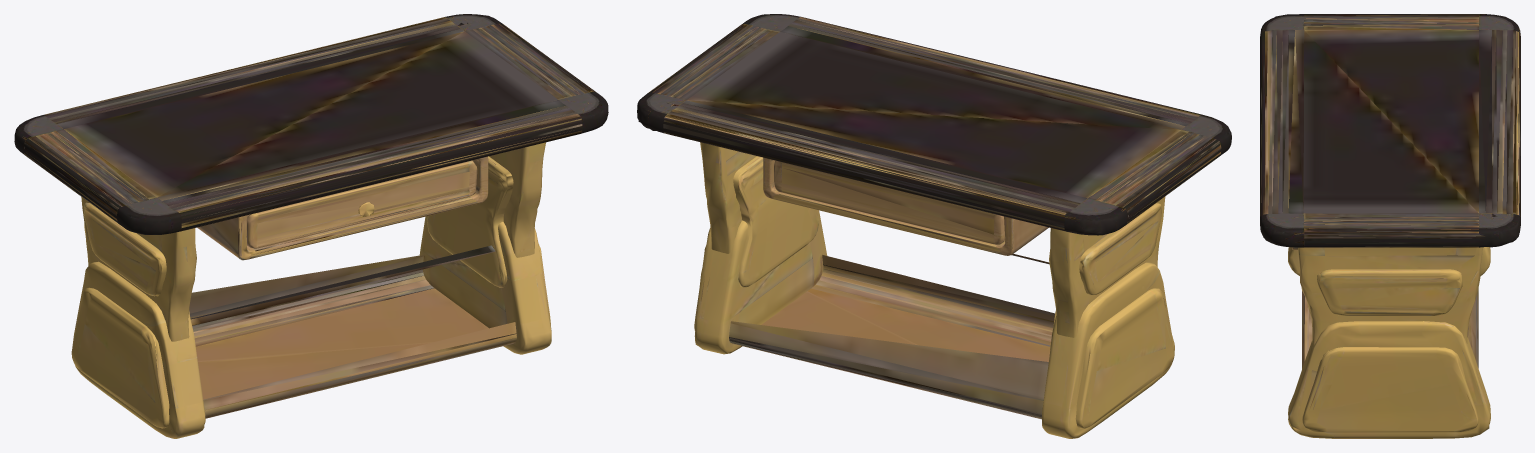
File: desk_glass.glb
3 renders of one model, left to right at view 1: azimuth 30°, elevation 25°; view 2: azimuth 150°, elevation 25°; view 3: azimuth 270°, elevation 25°, orthographic. The views are drawn at different scales.
Visible parts, largest first — view 1: prop; view 2: prop; view 3: prop.
Part boxes in pixels (x1,y1,x2,y2): prop: (14,14,608,438); prop: (637,14,1231,438); prop: (1260,14,1520,438).
Size of the model in its own units: 1.5 by 0.7404 by 0.7519.
Materials: 1 (1 with a texture image).
